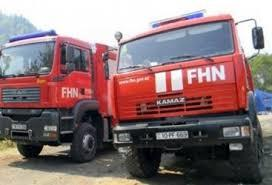Fire-engine: (115, 10, 272, 179), (0, 13, 112, 178)
